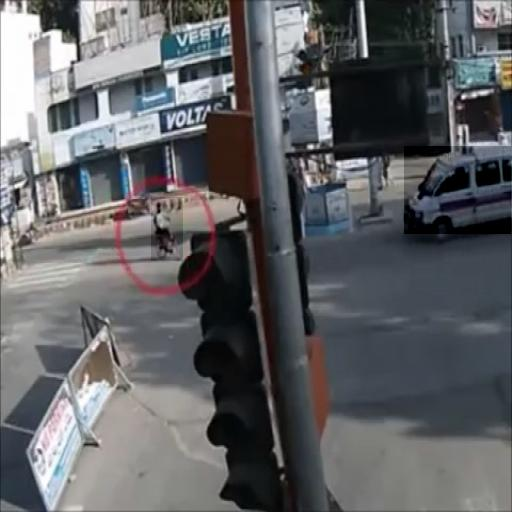小汽车: (404, 146, 511, 234)
自行车: (151, 197, 183, 261)
